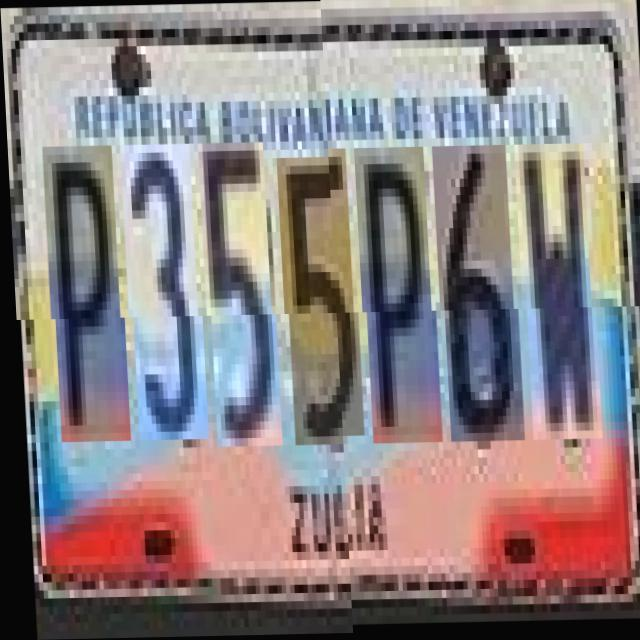3: (123, 144, 204, 442)
5: (200, 143, 278, 448), (279, 158, 360, 446)
6: (434, 156, 520, 452)
P: (357, 157, 438, 454), (45, 146, 126, 442)
W: (517, 154, 598, 451)
